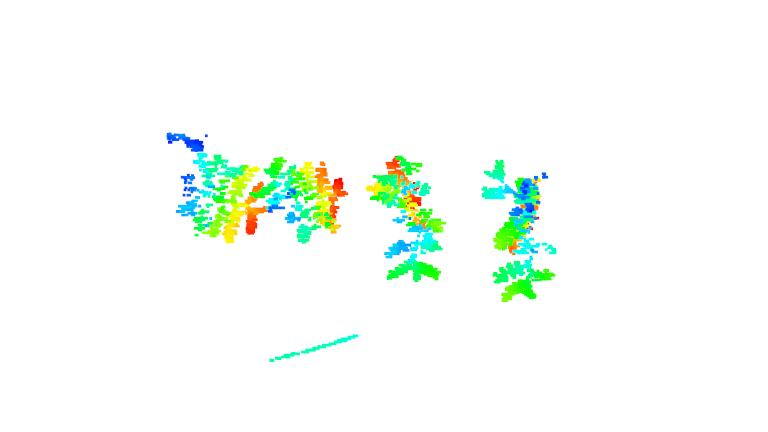chickpea: (479, 163, 553, 301), (169, 149, 270, 239), (374, 156, 443, 282), (263, 151, 344, 243)
